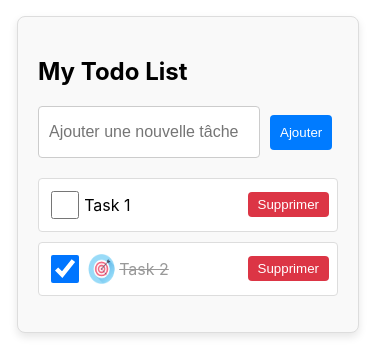
Test: TodoList Component › should delete a task
Click the button "Supprimer" next to "Task 1" at (288, 205), box [248, 192, 329, 217]
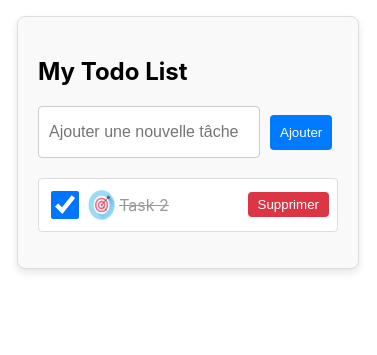
Check: the text "Task 1" is gone
